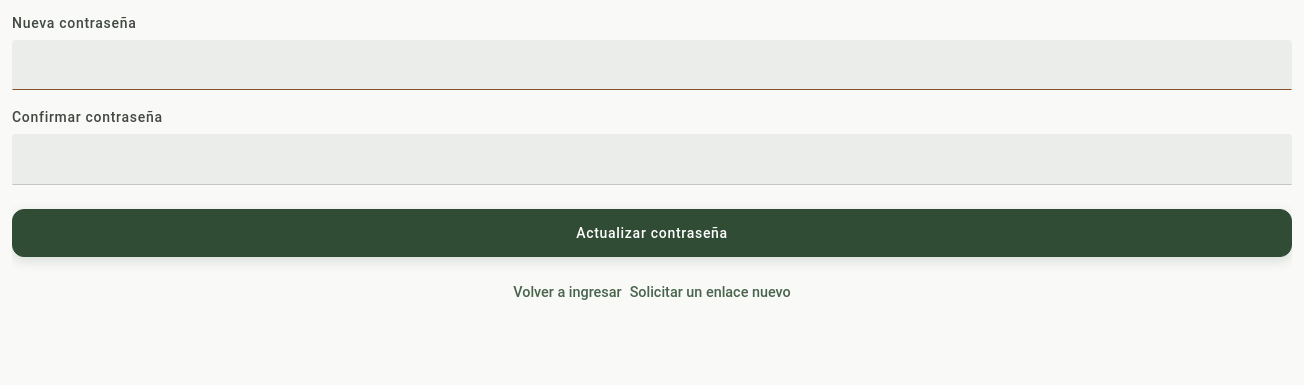
Test: ResetPasswordForm › validates matching passwords and submits the token and new password
Type "newpassword123" into the password field labelled "Nueva contraseña". click: point(652, 65)
box: [12,40,1292,90]
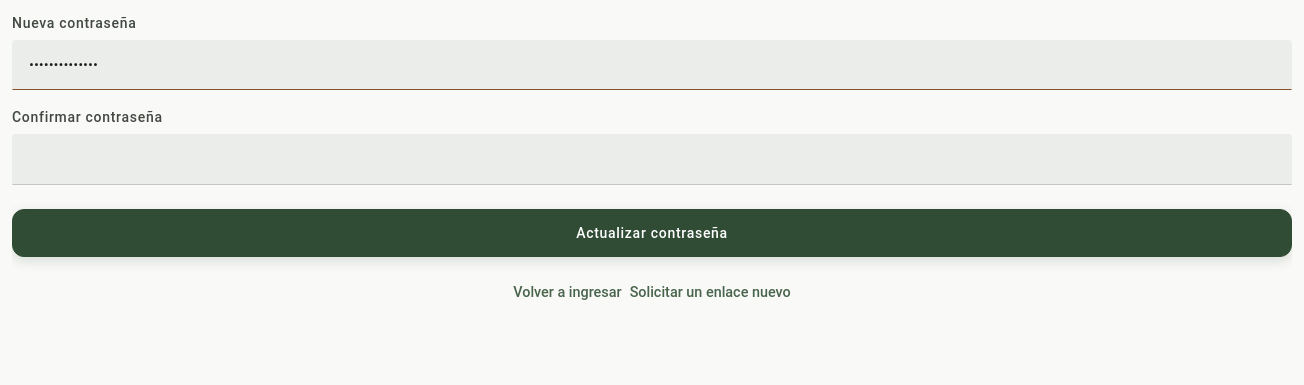
Type "newpassword123" into the password field labelled "Confirmar contraseña". click: point(652, 160)
box: [12,134,1292,185]
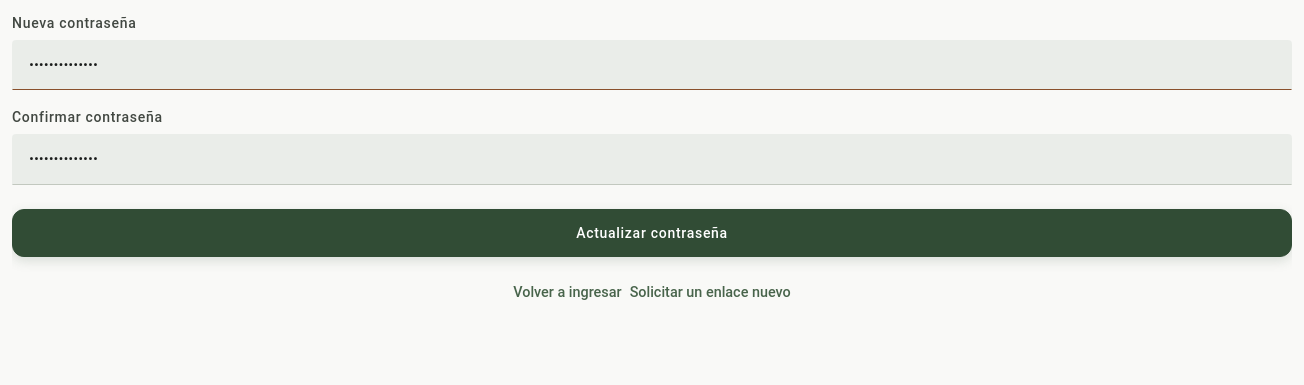
Click the button "Actualizar contraseña". click: point(652, 233)
box: [12,209,1292,257]
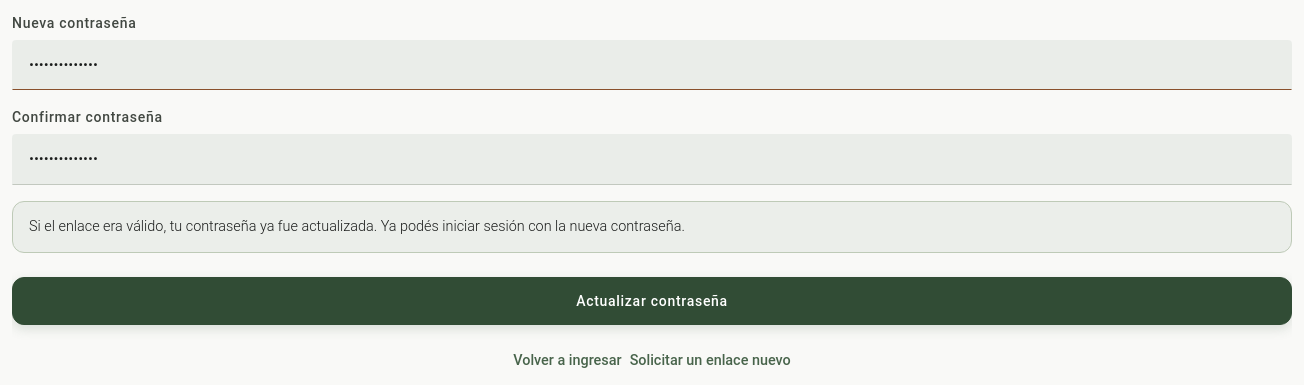
Result: the text "Si el enlace era válido" is shown at [29,218,685,235]
